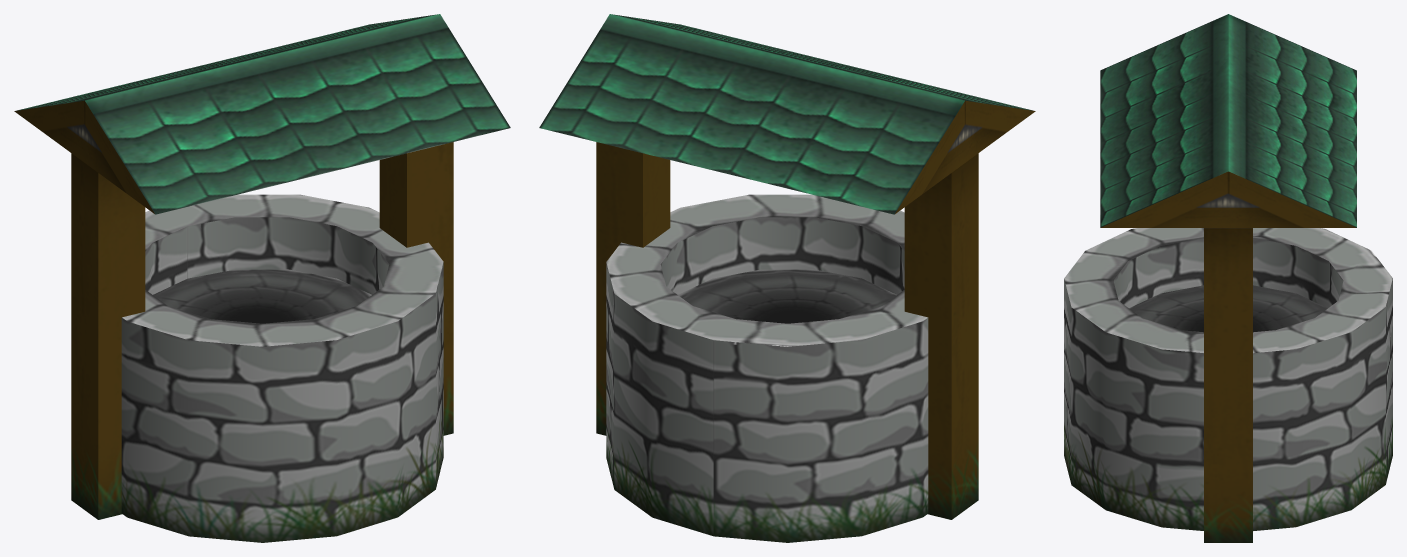
The model's file is Well.fbx.
3 views of the same model, side by side, from view 1: azimuth 30°, elevation 25°; view 2: azimuth 150°, elevation 25°; view 3: azimuth 270°, elevation 25° (orthographic). The views are drawn at different scales.
Parts seen in each view (by area): view 1: Well; view 2: Well; view 3: Well.
Boxes of the visible parts, box(x1,y1,x2,y2) form: Well: box(14, 14, 510, 542); Well: box(539, 14, 1035, 542); Well: box(1064, 14, 1392, 542).
Bounding box in the file's own units: 36.32 × 39.99 × 32.06.
1 material, 1 textured.
